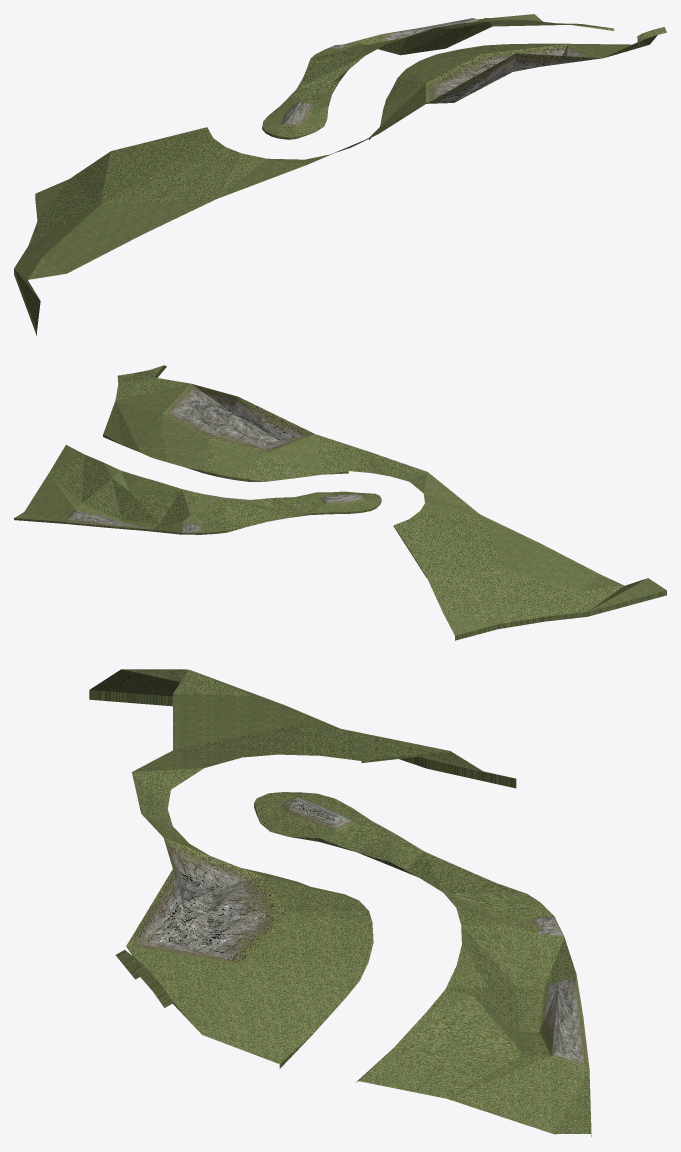
Rendered from lod_sfshill15.obj.
The picture shows the model from 3 angles, top to bottom: view 1: azimuth 30°, elevation 25°; view 2: azimuth 150°, elevation 25°; view 3: azimuth 270°, elevation 25°; orthographic projection. The views are drawn at different scales.
Visible parts, largest first — view 1: lod_sfshill15; view 2: lod_sfshill15; view 3: lod_sfshill15.
Boxes of the visible parts, box(x1,y1,x2,y2) form: lod_sfshill15: box(14, 14, 666, 335); lod_sfshill15: box(14, 365, 666, 640); lod_sfshill15: box(89, 669, 591, 1136).
Size of the model in its own units: 278 by 57.75 by 113.
Materials: 2 (2 with a texture image).
